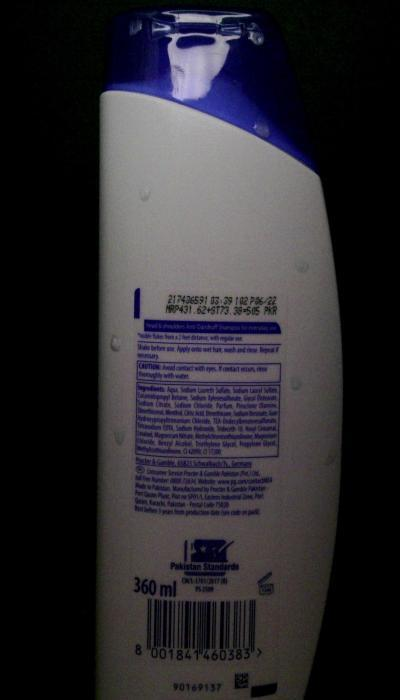pob_marg: (104, 320, 133, 366), (282, 254, 322, 284), (241, 115, 277, 148), (109, 412, 134, 455), (132, 175, 160, 210), (316, 440, 343, 476), (283, 364, 311, 398)
